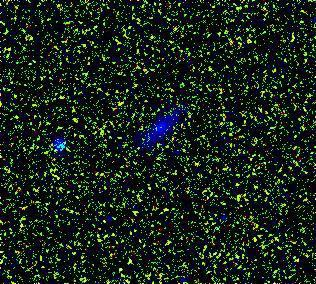star: (65, 107, 95, 137)
